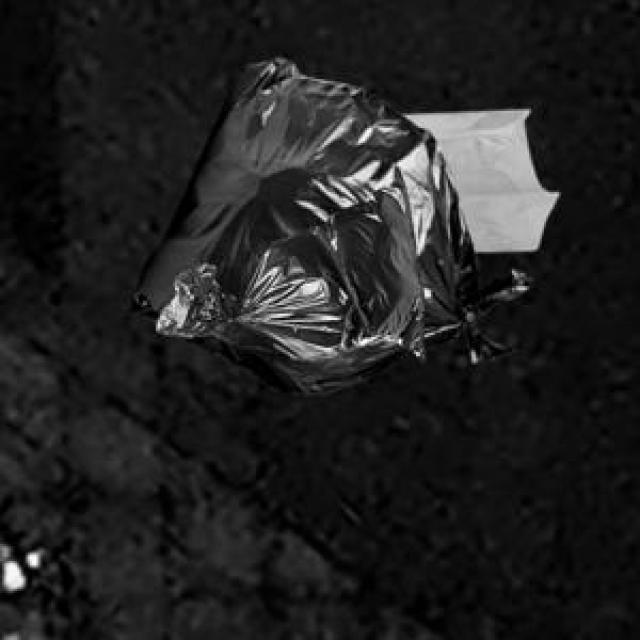miscellaneous trash: (126, 53, 527, 390), (154, 162, 420, 358)
